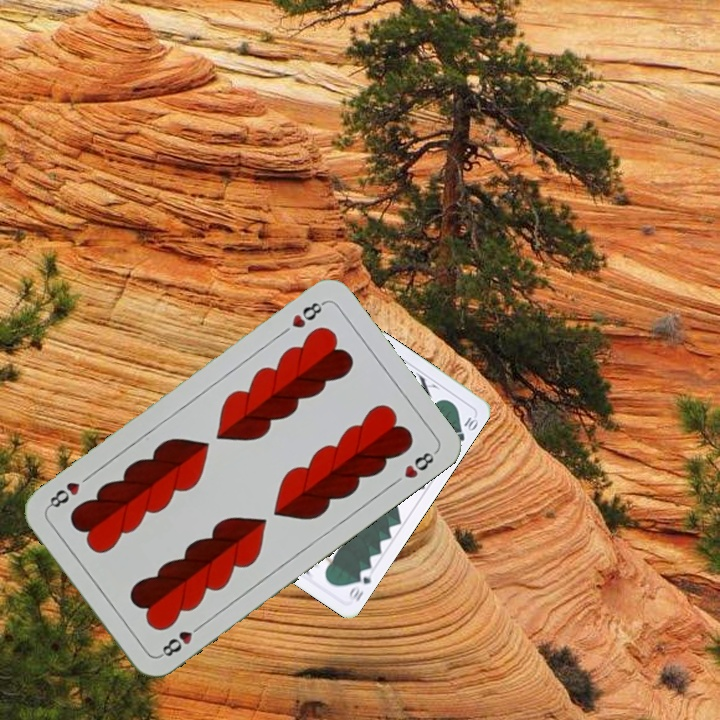G10: (344, 565, 376, 604)
H8: (155, 619, 206, 660), (287, 297, 328, 331)
